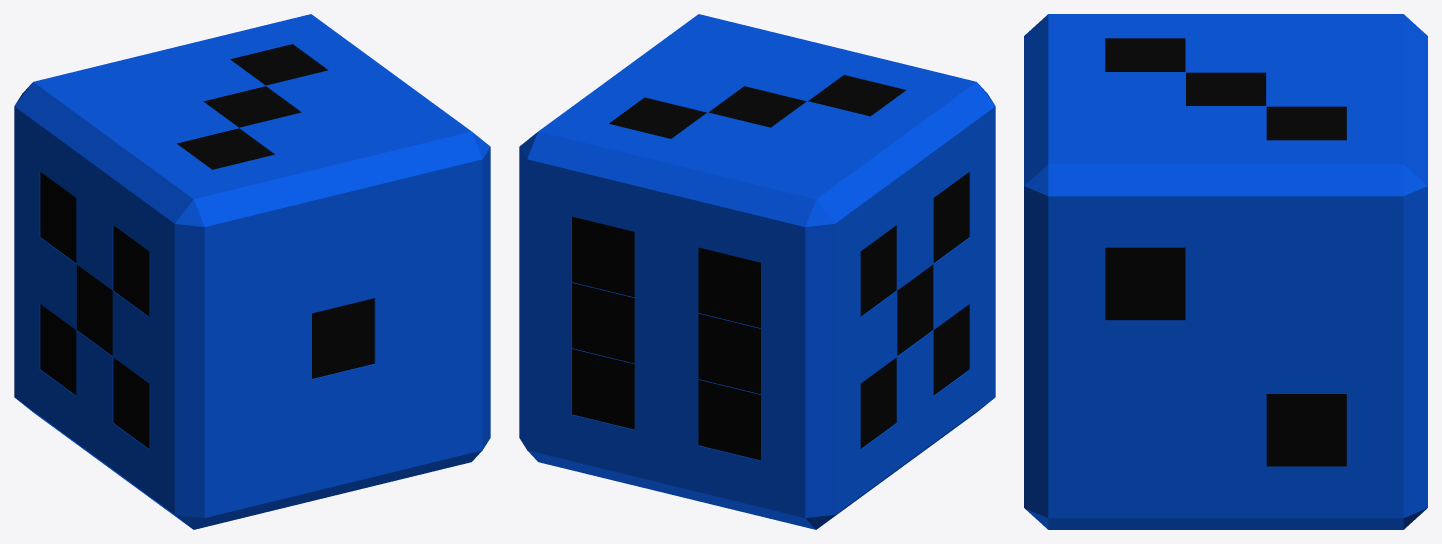
Rendered from blue_die_large.fbx.
3 renders of one model, left to right at view 1: azimuth 30°, elevation 25°; view 2: azimuth 150°, elevation 25°; view 3: azimuth 270°, elevation 25°, orthographic. The views are drawn at different scales.
Parts seen in each view (by area): view 1: pCube1; view 2: pCube1; view 3: pCube1.
Boxes of the visible parts, left/top/right/bottom form: pCube1: left=14, top=14, right=490, bottom=529; pCube1: left=519, top=14, right=995, bottom=529; pCube1: left=1024, top=14, right=1427, bottom=529.
Bounding box in the file's own units: 25 × 25 × 25.
